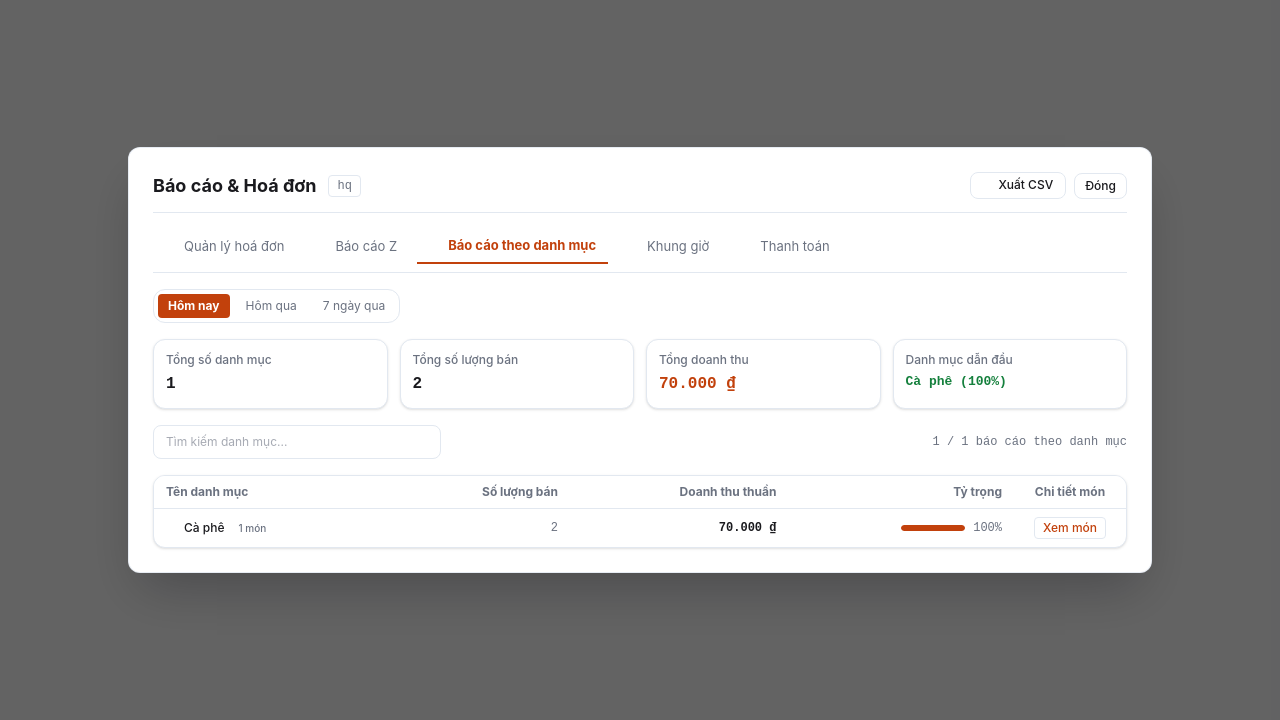
Scenario: StoreReportsModal.vue › renders Category Report (Báo cáo theo danh mục) with KPI cards, item breakdown and search filter
Expected: the element with test id "categories-panel" is shown, [153, 339, 1127, 548]
Expected: the text with test id "total-categories-count" reads "1", [166, 375, 176, 393]
Click the button with test id "toggle-items-cat_coffee".
click(1070, 528)  # box [1034, 517, 1106, 539]
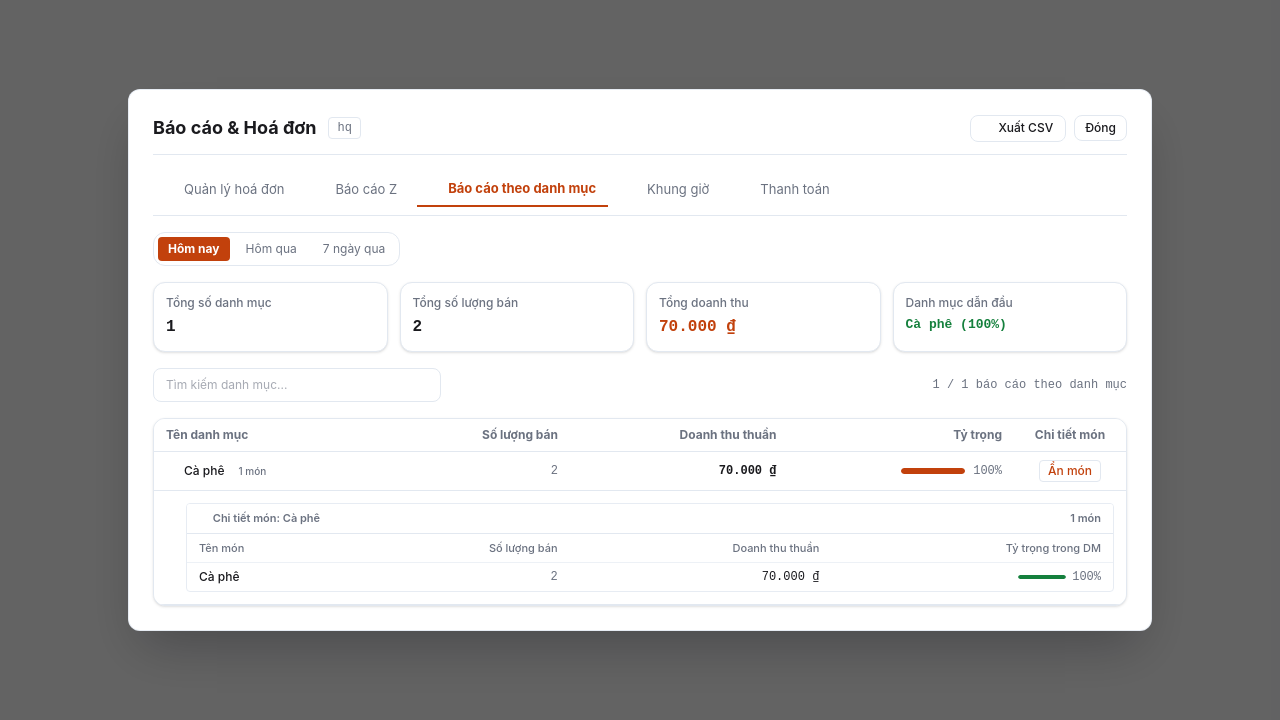
Now the row with test id "cat-items-row-cat_coffee" is shown, box [154, 490, 1126, 604]
Now the row with test id "cat-item-p1" is shown, box [187, 562, 1113, 591]
Now the row with test id "cat-item-p1" shows "Cà phê", box [199, 569, 240, 584]
// Toggle collapse
Click the button with test id "toggle-items-cat_coffee".
click(1070, 471)  # box [1039, 460, 1101, 482]
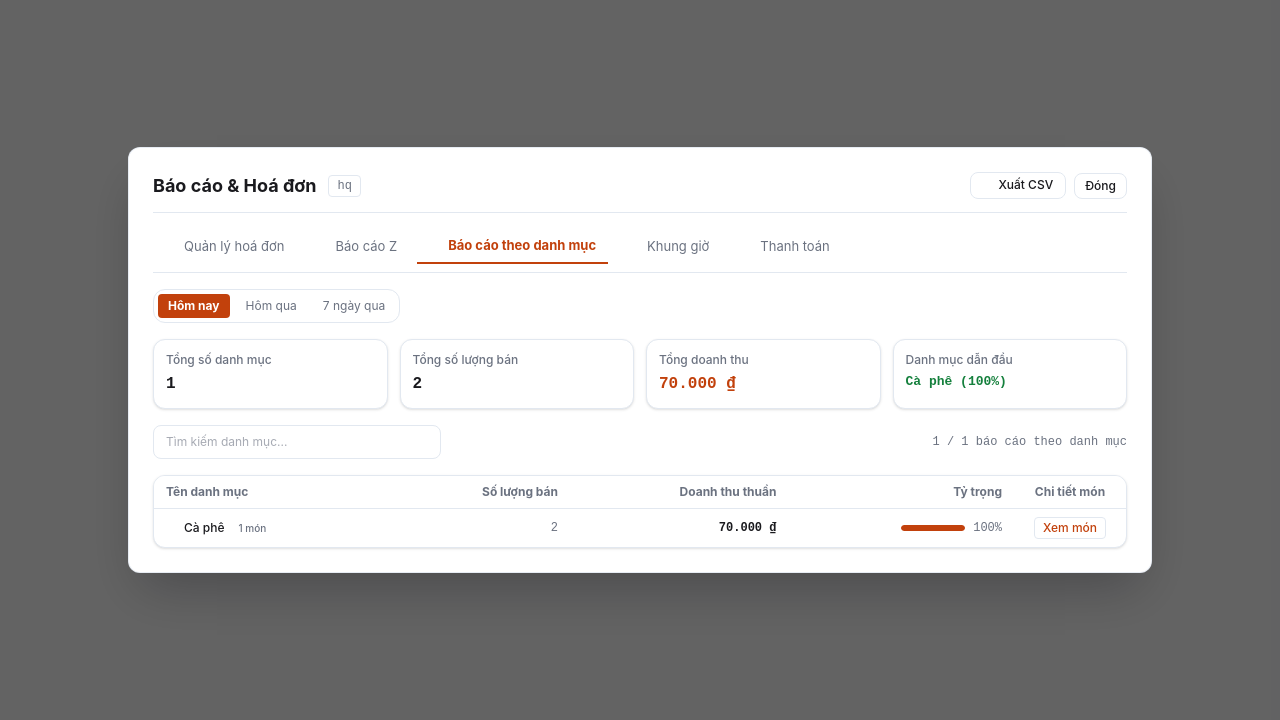
Type "Trà" into the field with placeholder "Tìm kiếm danh mục...".
click(297, 442); type("Trà")  # box [153, 425, 441, 459]
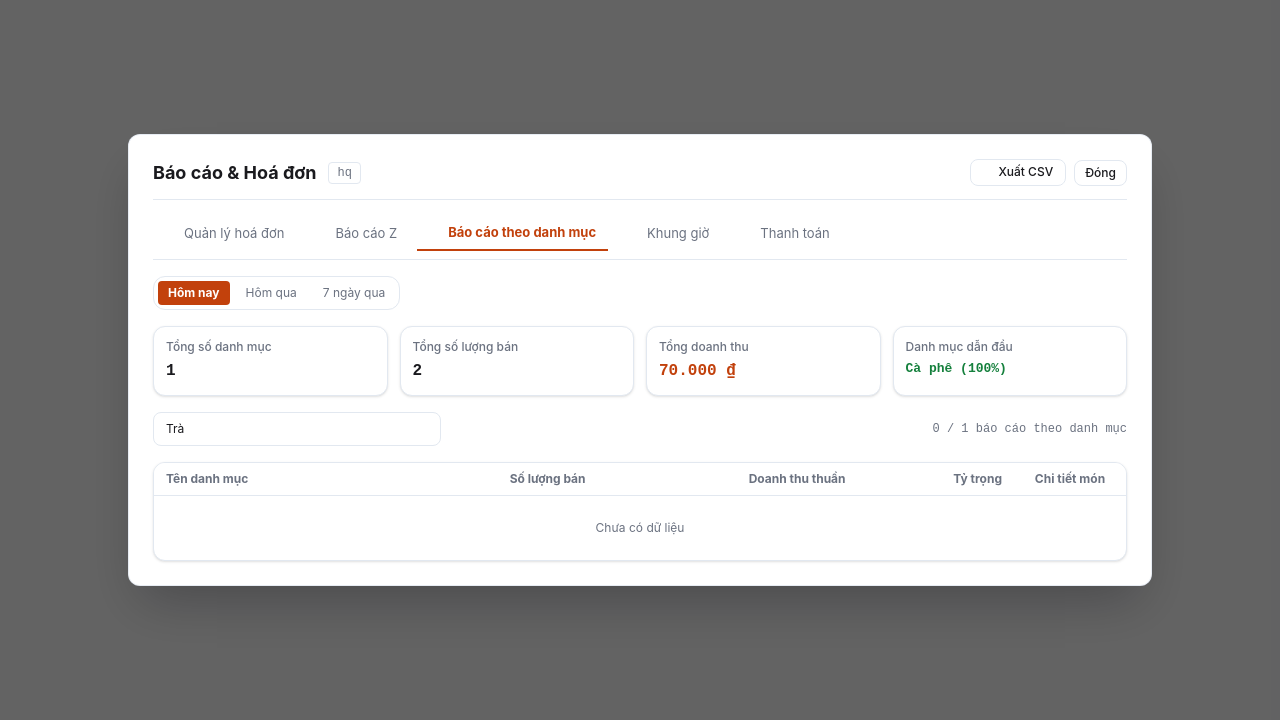
Now the text "Chưa có" is shown, box [596, 520, 684, 535]
Replace the text in the field named "Tìm kiếm danh mục..." with "Cà phê" at [297, 429], box [153, 412, 441, 446]
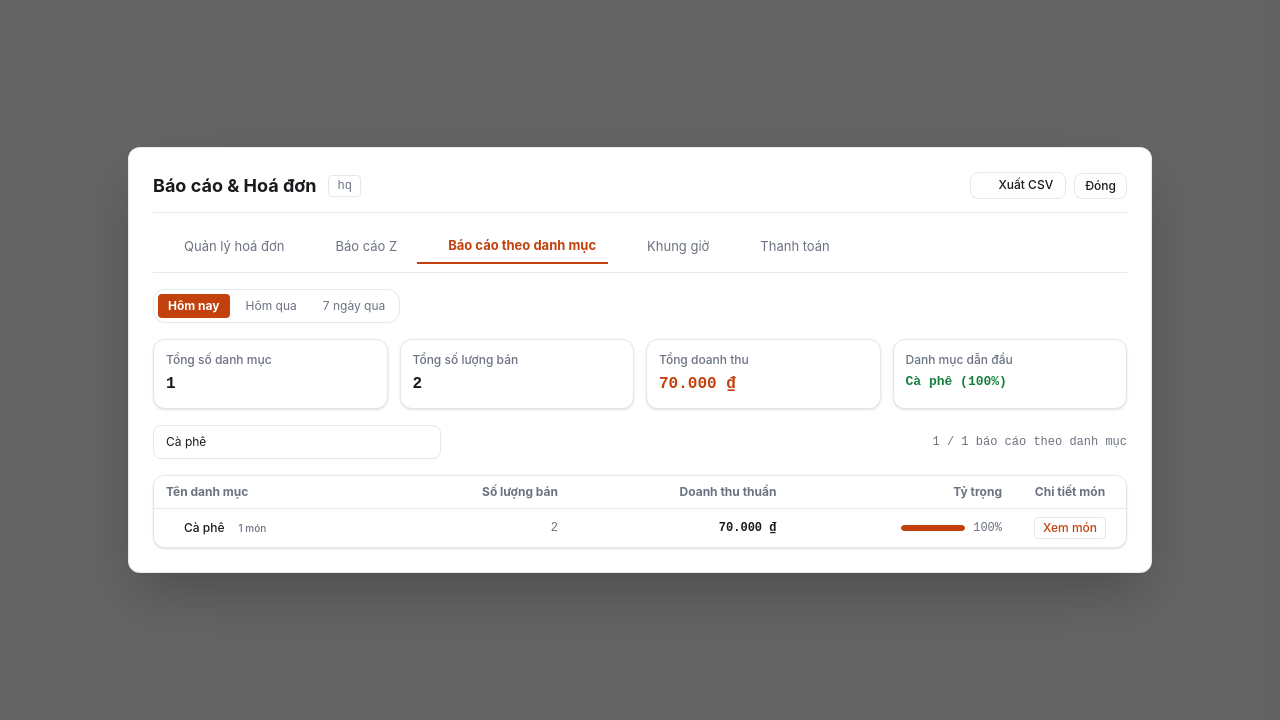
Now the button with test id "toggle-items-cat_coffee" is shown, box [1034, 517, 1106, 539]
